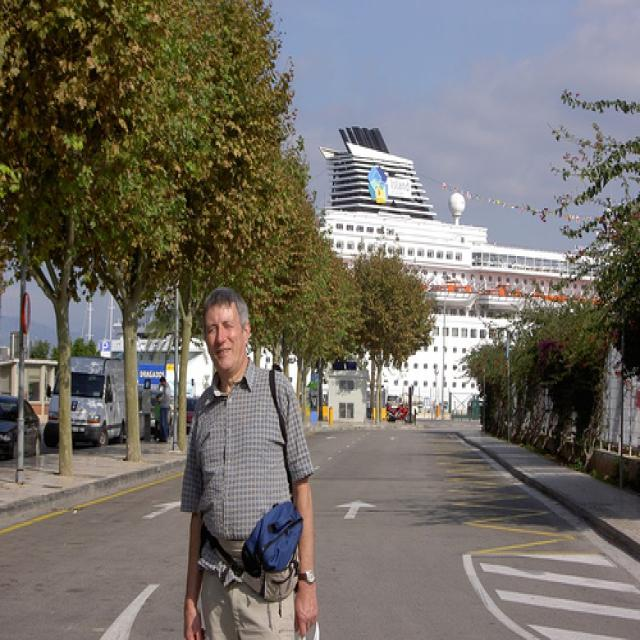light_vehicle: (45, 355, 132, 449), (0, 393, 44, 464)
